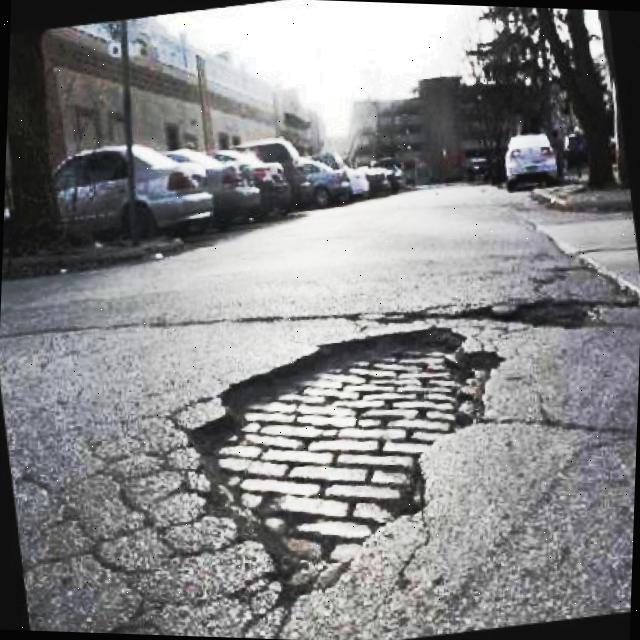pothole: (174, 312, 506, 609), (454, 284, 593, 331)
